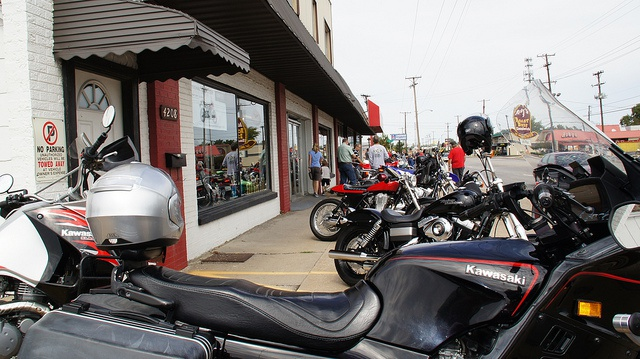non-vehicle: (75, 83, 640, 359), (324, 107, 526, 285), (0, 105, 119, 359), (310, 160, 427, 239), (407, 163, 417, 171)
